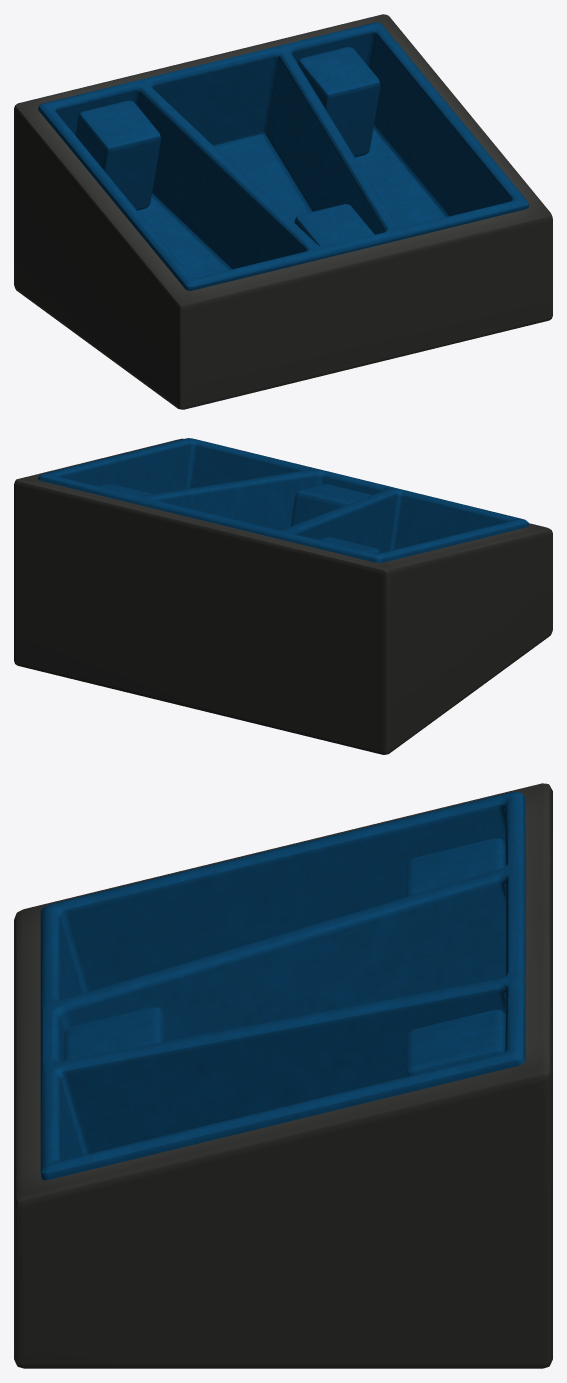
File: YutNori_FinishBoxBlue.fbx
3 views of the same model, one above another, from view 1: azimuth 30°, elevation 25°; view 2: azimuth 150°, elevation 25°; view 3: azimuth 270°, elevation 25° (orthographic). The views are drawn at different scales.
Visible parts, largest first — view 1: YutNori_FinishBoxBlue; view 2: YutNori_FinishBoxBlue; view 3: YutNori_FinishBoxBlue.
Part boxes in pixels (x1,y1,x2,y2): YutNori_FinishBoxBlue: [14, 14, 552, 409]; YutNori_FinishBoxBlue: [14, 438, 552, 754]; YutNori_FinishBoxBlue: [14, 783, 552, 1368].
Bounding box in the file's own units: 6.24 × 3.01 × 4.84.
